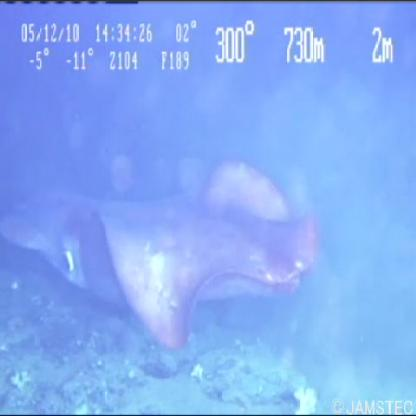Bio: (1, 149, 326, 356)
